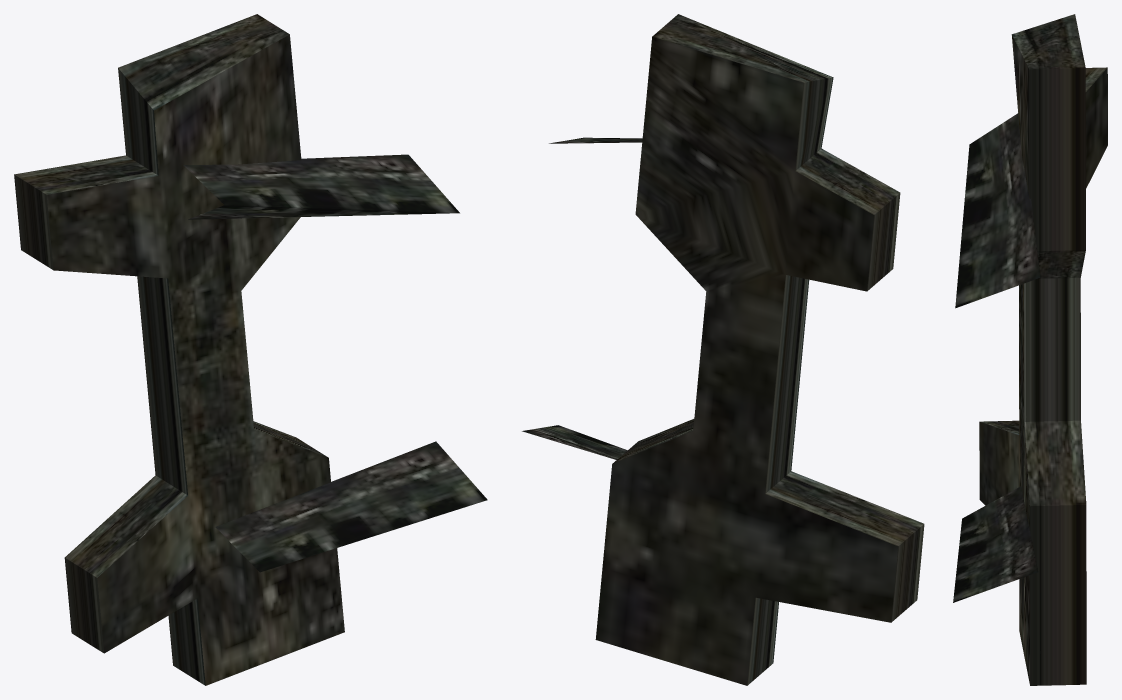
Rendered from vehicle_uni_carrier_blow_piece08.glb.
The picture shows the model from 3 angles, left to right: view 1: azimuth 30°, elevation 25°; view 2: azimuth 150°, elevation 25°; view 3: azimuth 270°, elevation 25°; orthographic projection. The views are drawn at different scales.
Size of the model in its own units: 7.55 by 11.49 by 2.67.
2 materials, 2 textured.
